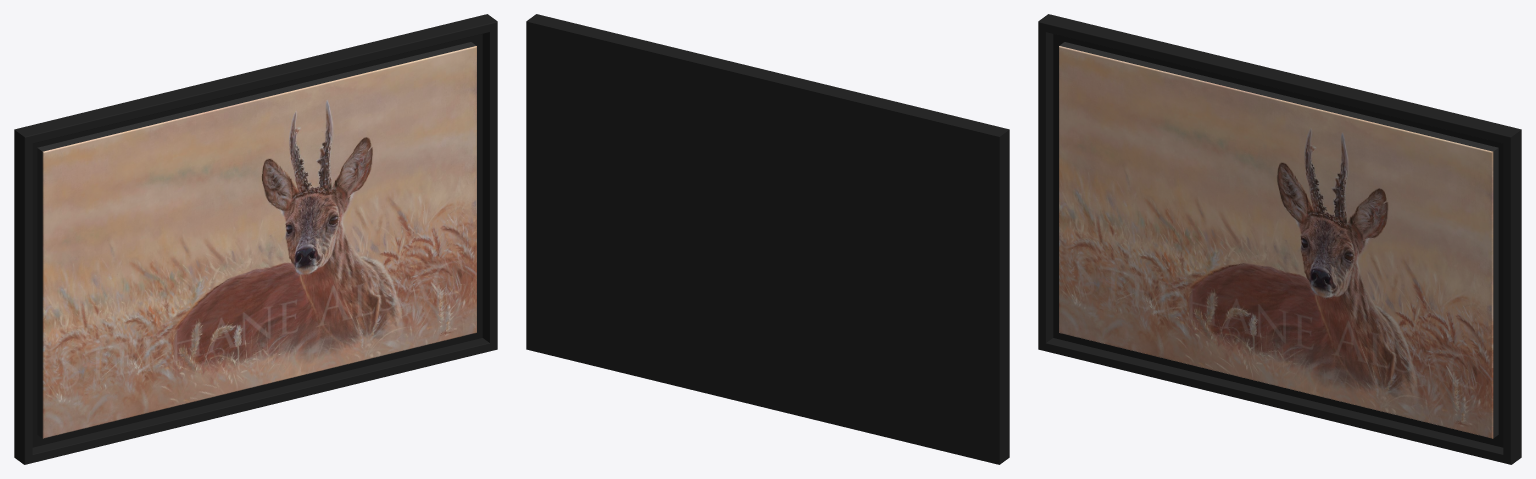
File: peinture-brocard-ete-grand-9a2ce3b3.glb
3 views of the same model, side by side, from view 1: azimuth 30°, elevation 25°; view 2: azimuth 150°, elevation 25°; view 3: azimuth 330°, elevation 25° (orthographic).
Visible parts, largest first — view 1: Painting; view 2: Painting; view 3: Painting.
Boxes of the visible parts, <box> form: Painting: <box>14,14,497,464</box>; Painting: <box>526,14,1009,464</box>; Painting: <box>1038,14,1521,464</box>.
Size of the model in its own units: 1.04 by 0.686 by 0.04.
Materials: 4 (2 with a texture image).
